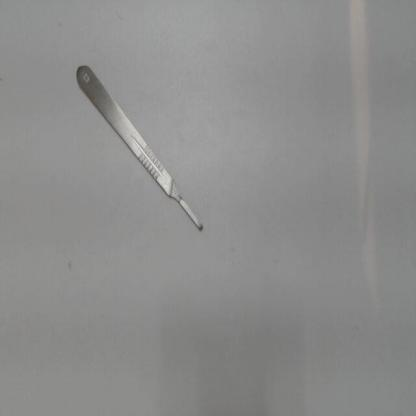No.4 BP Handle: (62, 49, 210, 247)
